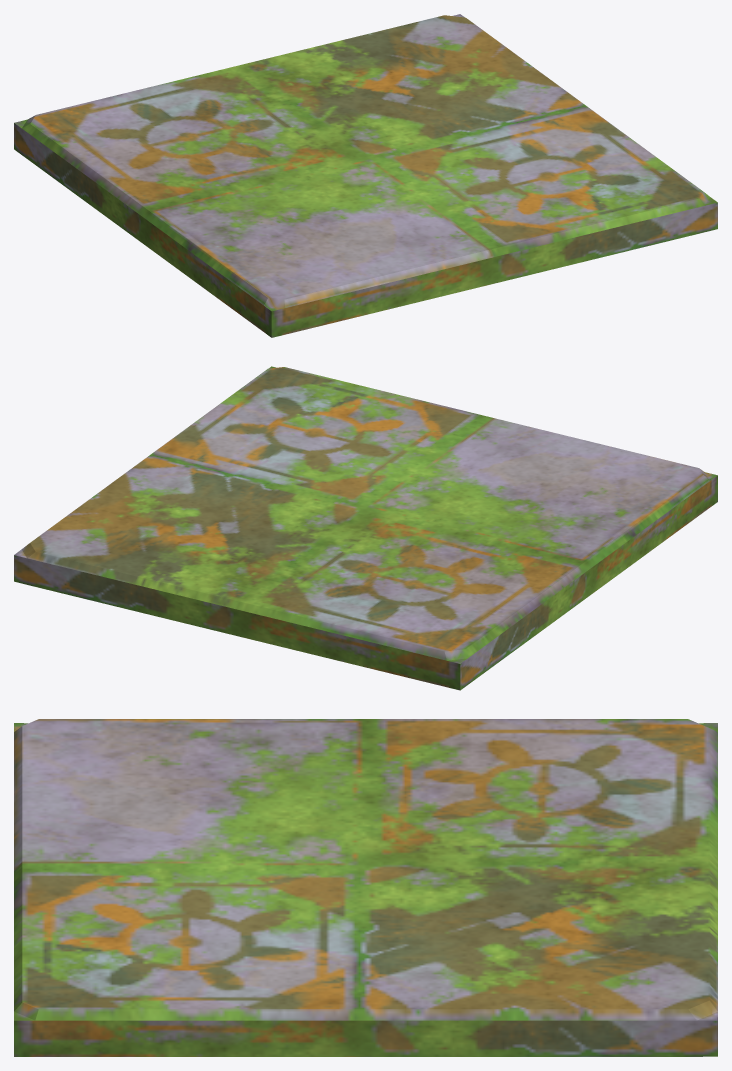
File: FullSidewalkTile_1x1x1.fbx
The picture shows the model from 3 angles, top to bottom: view 1: azimuth 30°, elevation 25°; view 2: azimuth 150°, elevation 25°; view 3: azimuth 270°, elevation 25°; orthographic projection. The views are drawn at different scales.
Parts seen in each view (by area): view 1: Corner_Grass_BaseTile; view 2: Corner_Grass_BaseTile; view 3: Corner_Grass_BaseTile.
Boxes of the visible parts, left/top/right/bottom form: Corner_Grass_BaseTile: left=14, top=14, right=717, bottom=337; Corner_Grass_BaseTile: left=14, top=366, right=717, bottom=690; Corner_Grass_BaseTile: left=14, top=719, right=717, bottom=1056.
Size of the model in its own units: 2 by 2 by 0.1375.
